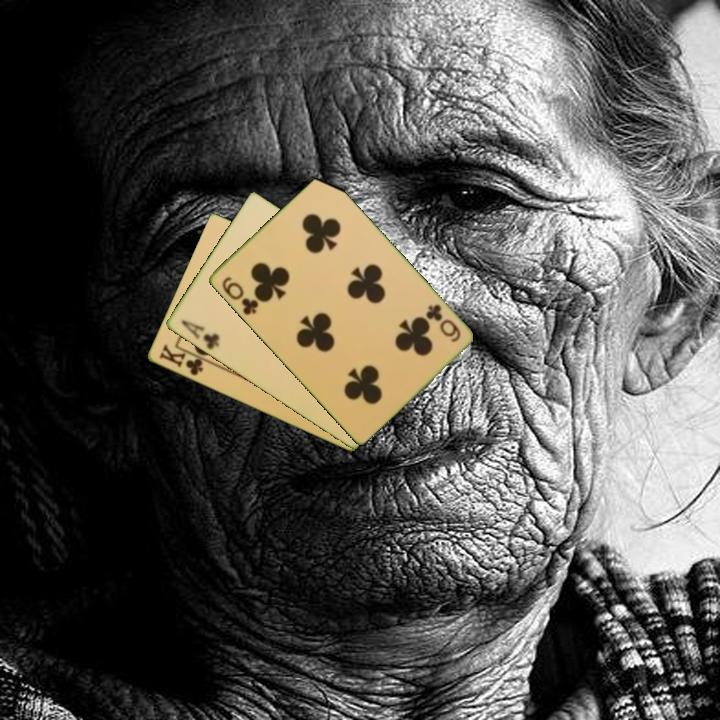6c: (218, 273, 261, 318), (422, 300, 463, 345)
Ac: (177, 316, 222, 353)
Kc: (155, 340, 211, 379)
